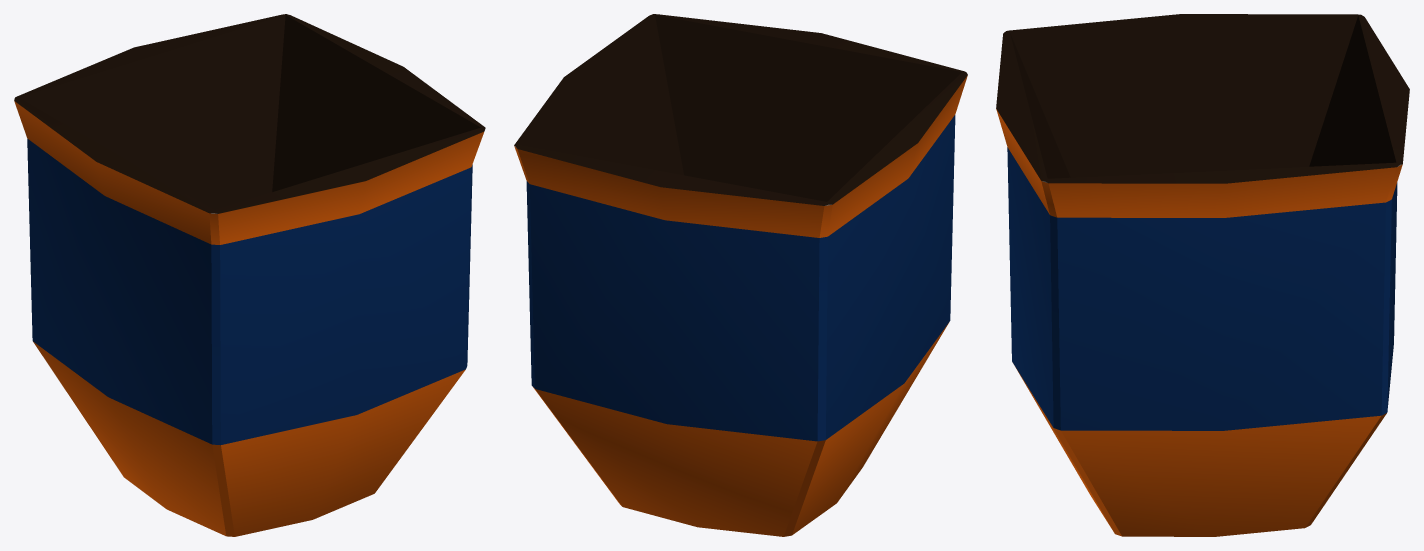
Rendered from Vase.fbx.
3 renders of one model, left to right at view 1: azimuth 30°, elevation 25°; view 2: azimuth 150°, elevation 25°; view 3: azimuth 270°, elevation 25°, orthographic. The views are drawn at different scales.
Parts seen in each view (by area): view 1: Vase; view 2: Vase; view 3: Vase.
Boxes of the visible parts, x1,y1,x2,y2 form: Vase: (14, 14, 485, 536); Vase: (514, 14, 967, 536); Vase: (996, 14, 1409, 536).
Bounding box in the file's own units: 3.38 × 3.65 × 3.48.
